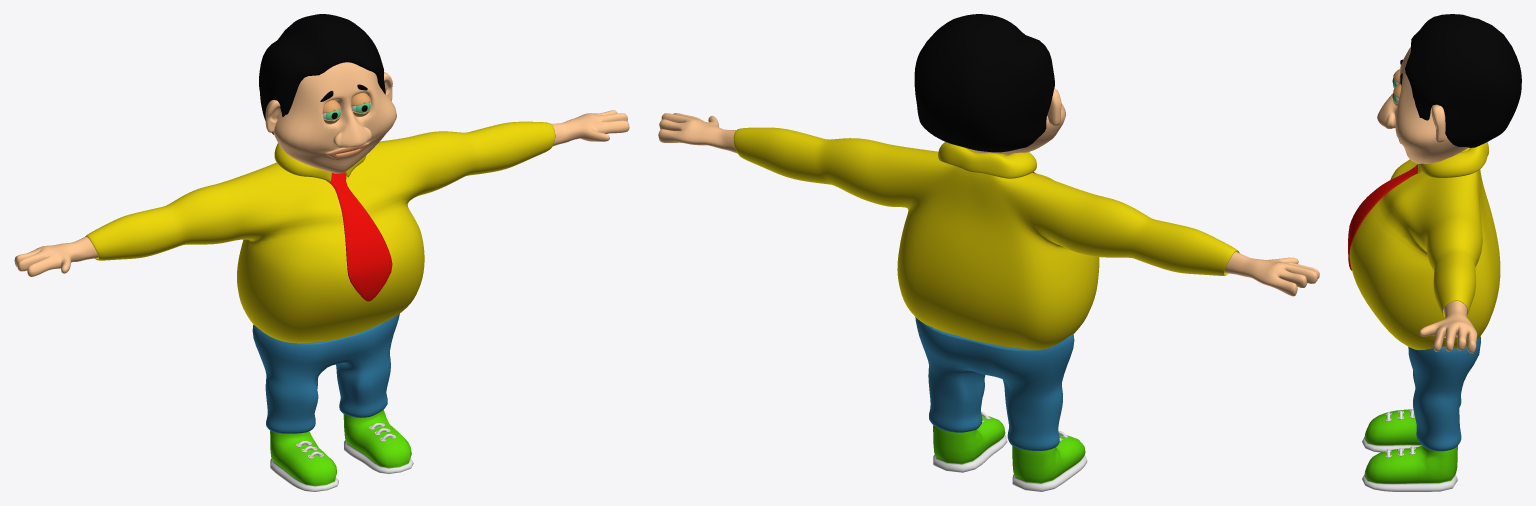
File: Man.f02a09d2.glb
3 renders of one model, left to right at view 1: azimuth 30°, elevation 25°; view 2: azimuth 150°, elevation 25°; view 3: azimuth 270°, elevation 25°, orthographic. The views are drawn at different scales.
Visible parts, largest first — view 1: Man; view 2: Man; view 3: Man.
Part boxes in pixels (x1,y1,x2,y2): Man: (14,14,629,491); Man: (658,14,1319,491); Man: (1348,14,1521,491).
Size of the model in its own units: 6.47 by 4.36 by 1.54.
